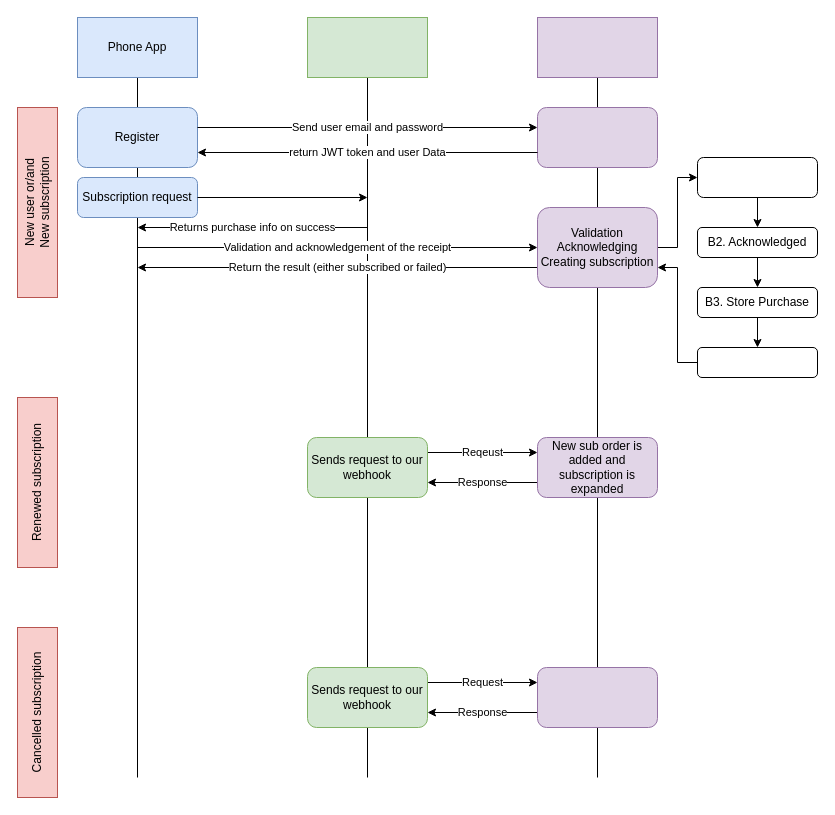
This 835x815 diagram has some shape labels left out. Each missing label, with the centre of its shape:
B1. Validate receipt: point (757, 177)
B4. Subscription: point (757, 362)
Creates user: point (597, 137)
Google: point (367, 47)
Subscription is cancelled: point (597, 697)
WP Server: point (597, 47)
